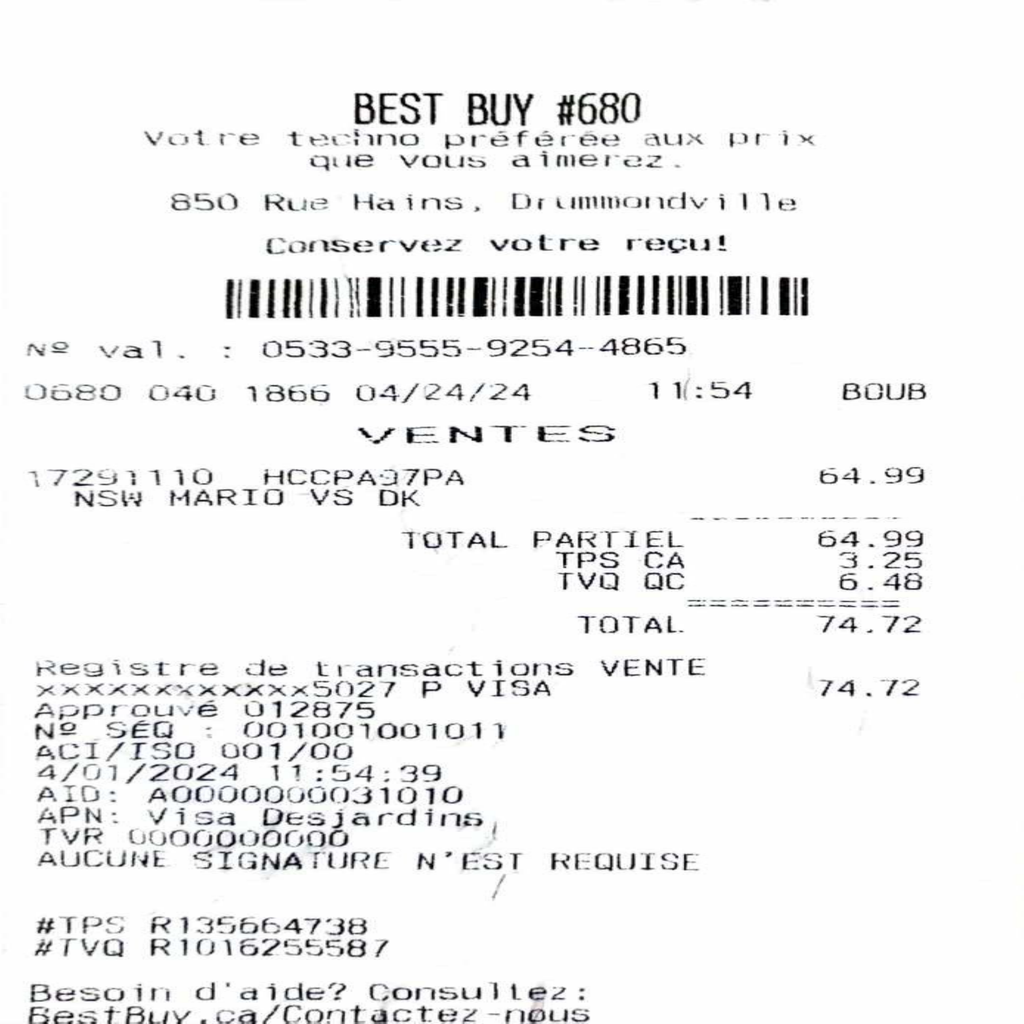recipt: (0, 2, 1020, 1022)
